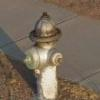Hydrant: (23, 6, 76, 99)
